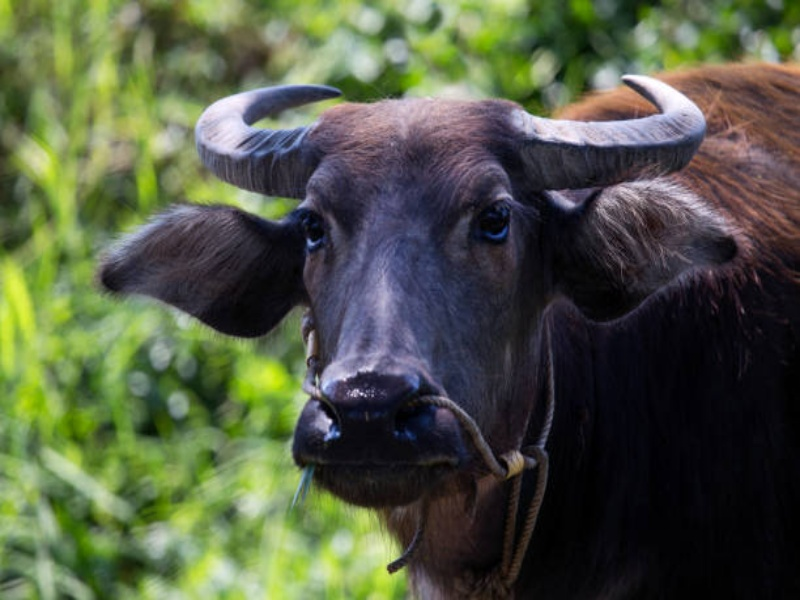buffalo: (88, 58, 785, 573)
